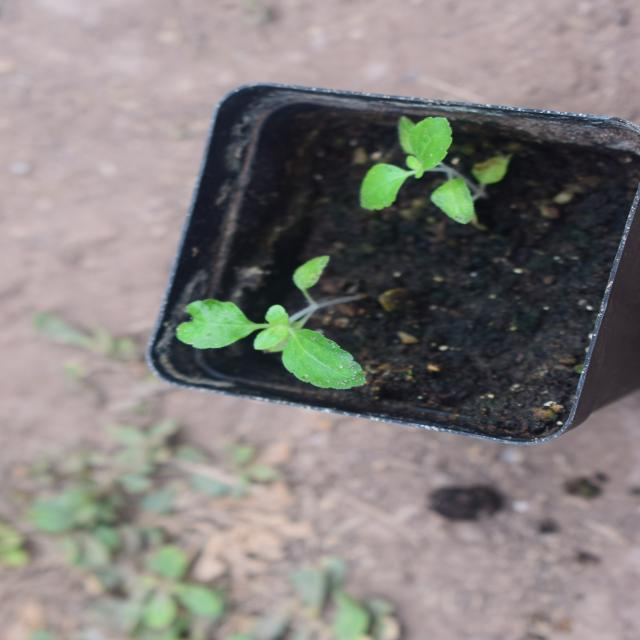billygoat_weed: (246, 168, 385, 387), (401, 350, 555, 520)
